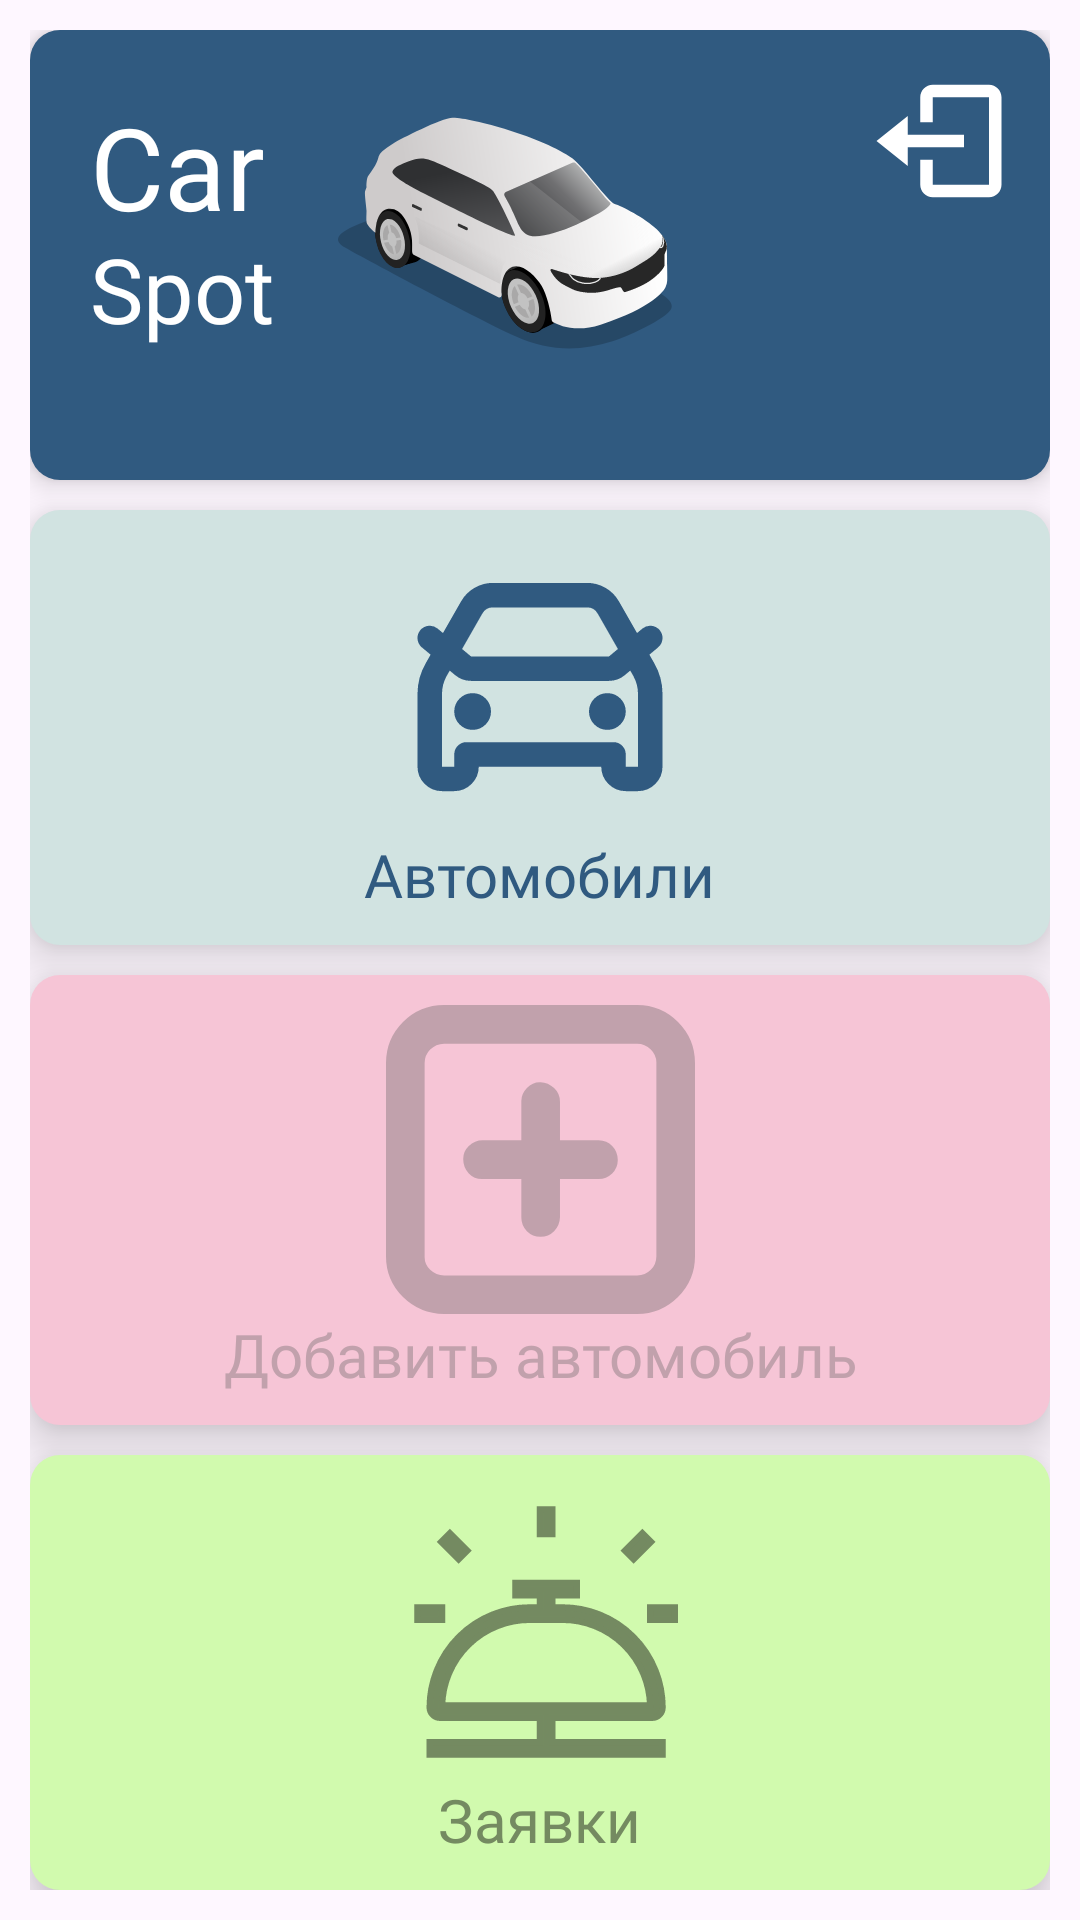

Icon bounding boxes for this 1080×1920 phone screenshot, format (x1, y1, x2, y2):
log out: (877, 84, 1002, 198)
offer: (414, 1506, 678, 1758)
